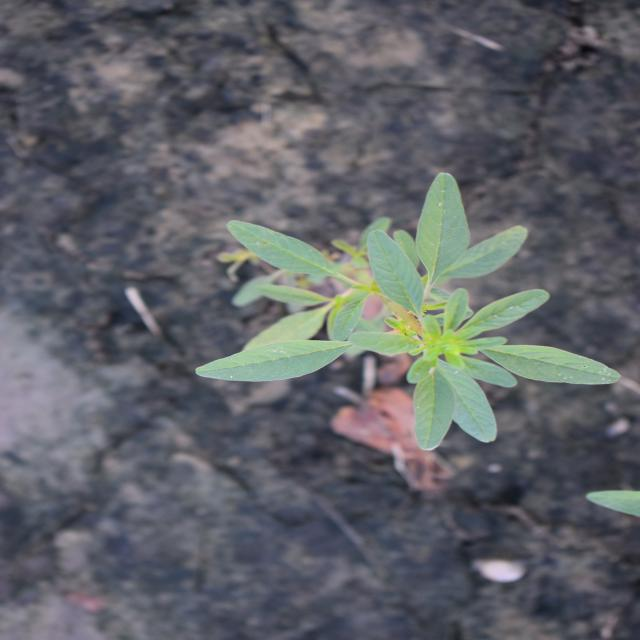Waterhemp: (188, 168, 628, 453)
